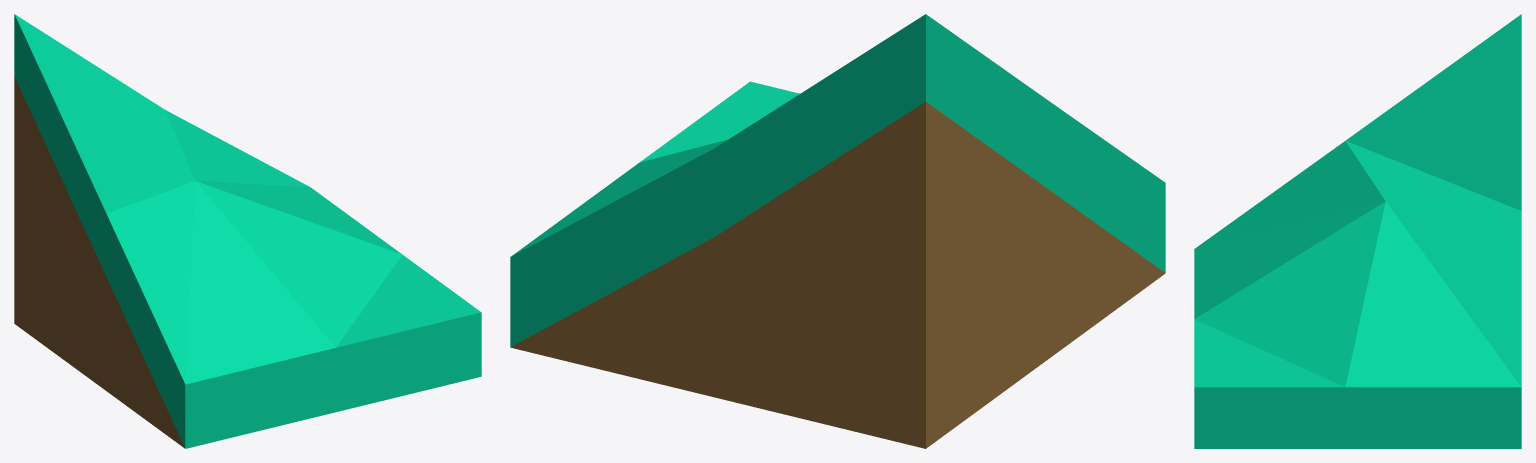
File: DirtCornerRamp_Temp.fbx
The picture shows the model from 3 angles, left to right: view 1: azimuth 30°, elevation 25°; view 2: azimuth 150°, elevation 25°; view 3: azimuth 270°, elevation 25°; orthographic projection. The views are drawn at different scales.
Parts seen in each view (by area): view 1: pCube4; view 2: pCube4; view 3: pCube4.
Boxes of the visible parts, x1,y1,x2,y2 form: pCube4: (14,14,481,448); pCube4: (510,14,1165,448); pCube4: (1194,14,1521,448).
Bounding box in the file's own units: 1 × 1 × 1.
